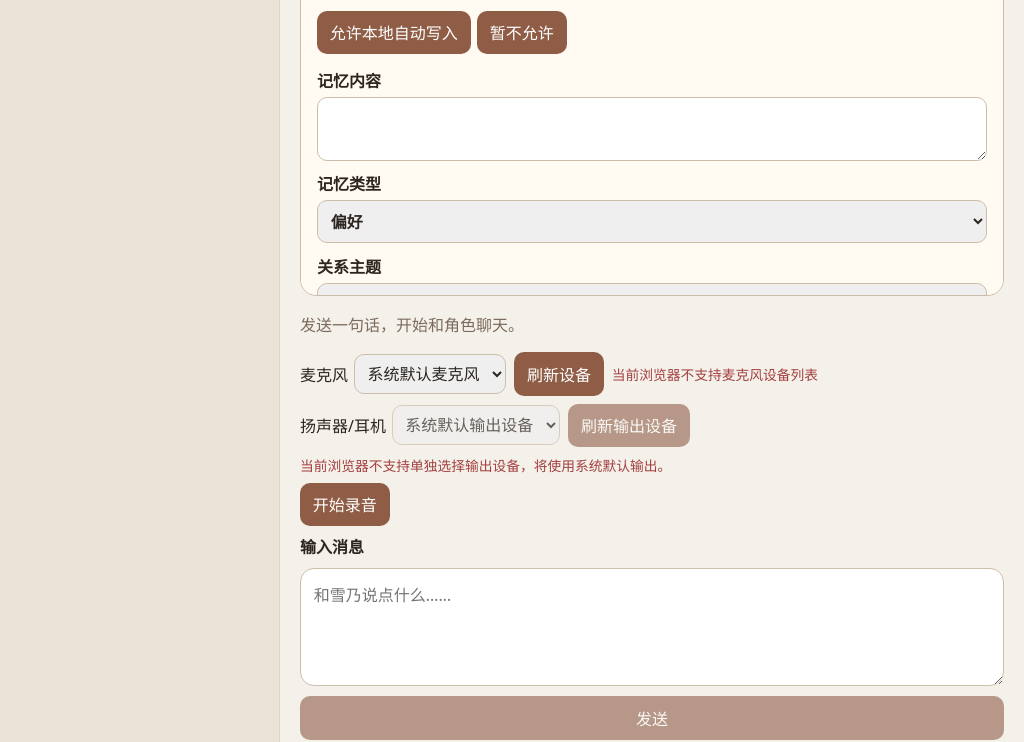
App › keeps recording blocked while voice turn chat send is in flight
(page scrolled)
What coordinates should you click on to do the following:
click the button "开始录音"
I would click on:
 (345, 504)
Its box is [300,483,390,526].
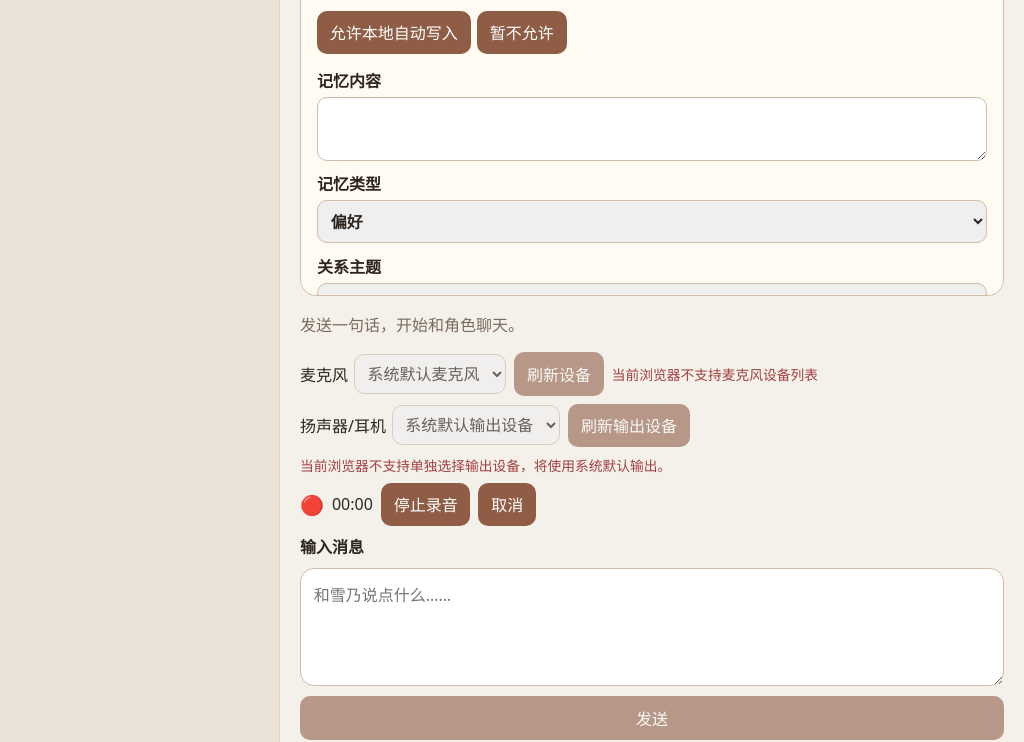
What coordinates should you click on to do the following:
click the button "停止录音"
I would click on:
 (426, 504)
Its box is [381,483,470,526].
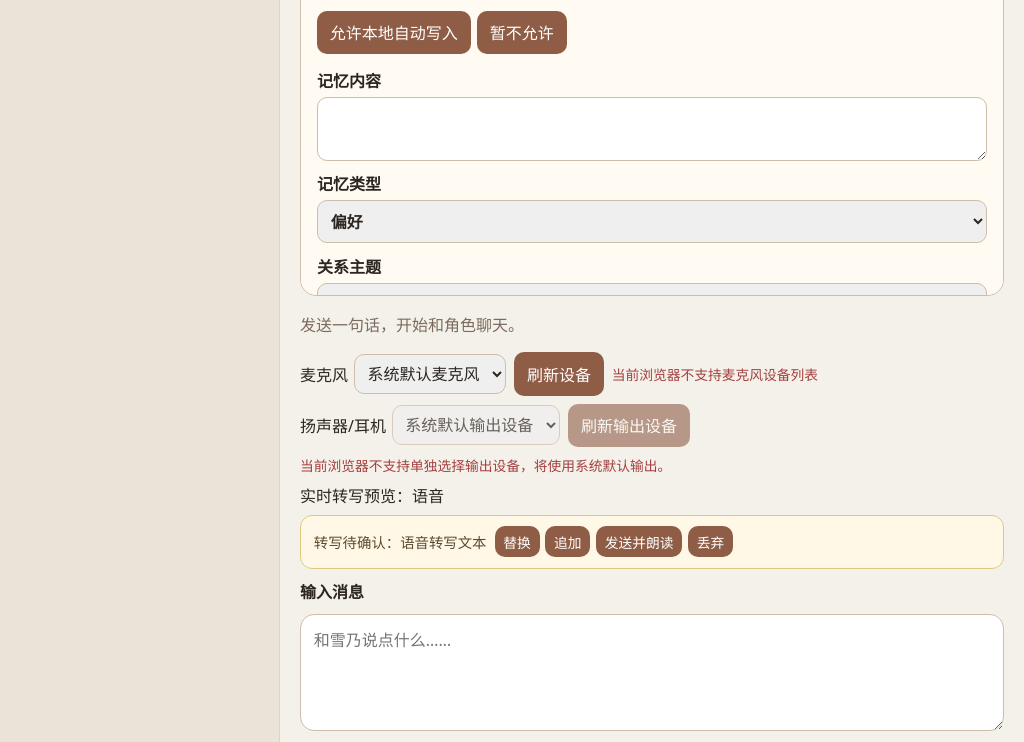
What coordinates should you click on to do the following:
click the button "发送并朗读"
I would click on:
 (639, 542)
Its box is [596,526,682,557].
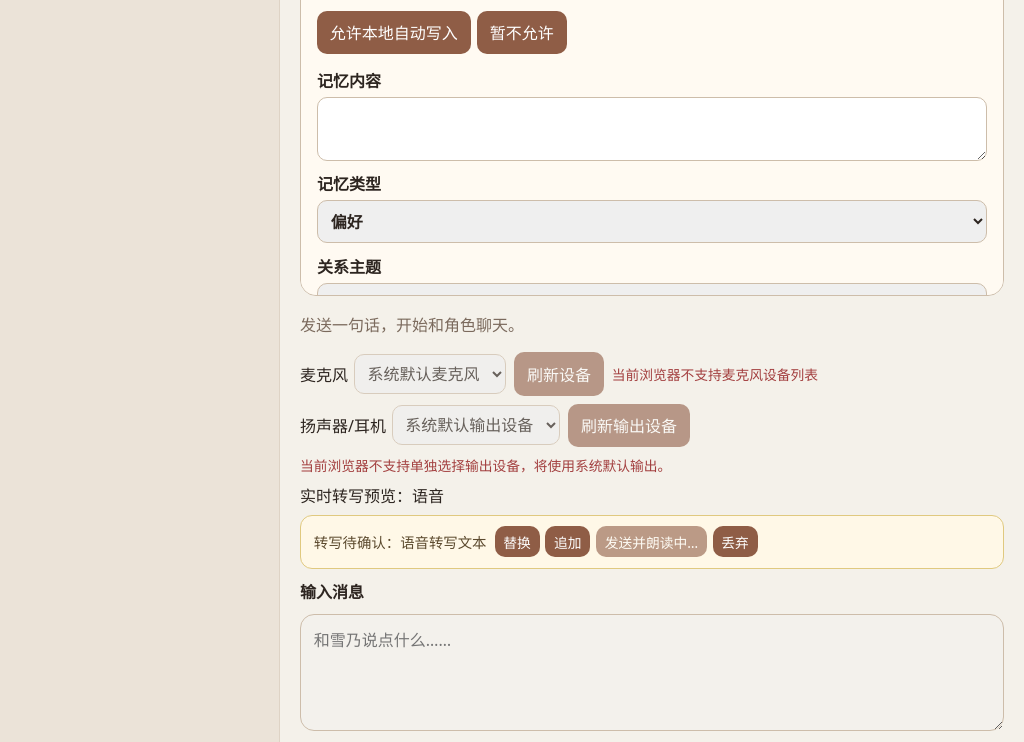
Expected: the button "开始录音" is not shown
Now the button "发送并朗读中…" is shown, box [596,526,707,557]
